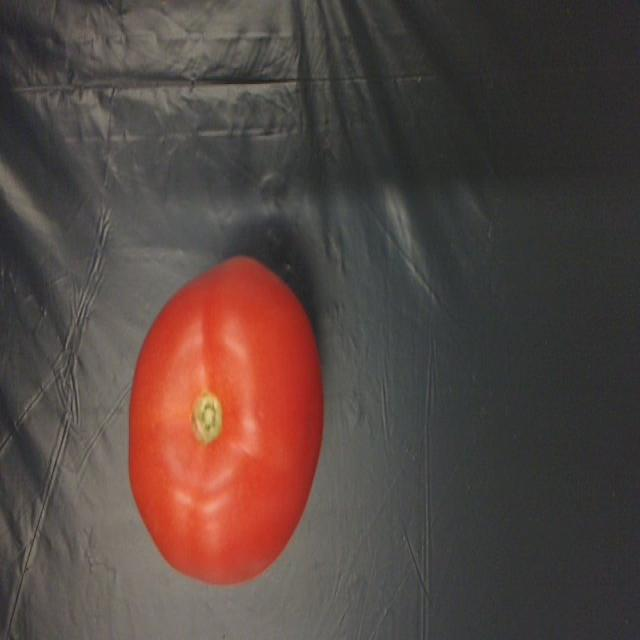kirmizi: (131, 248, 333, 594)
